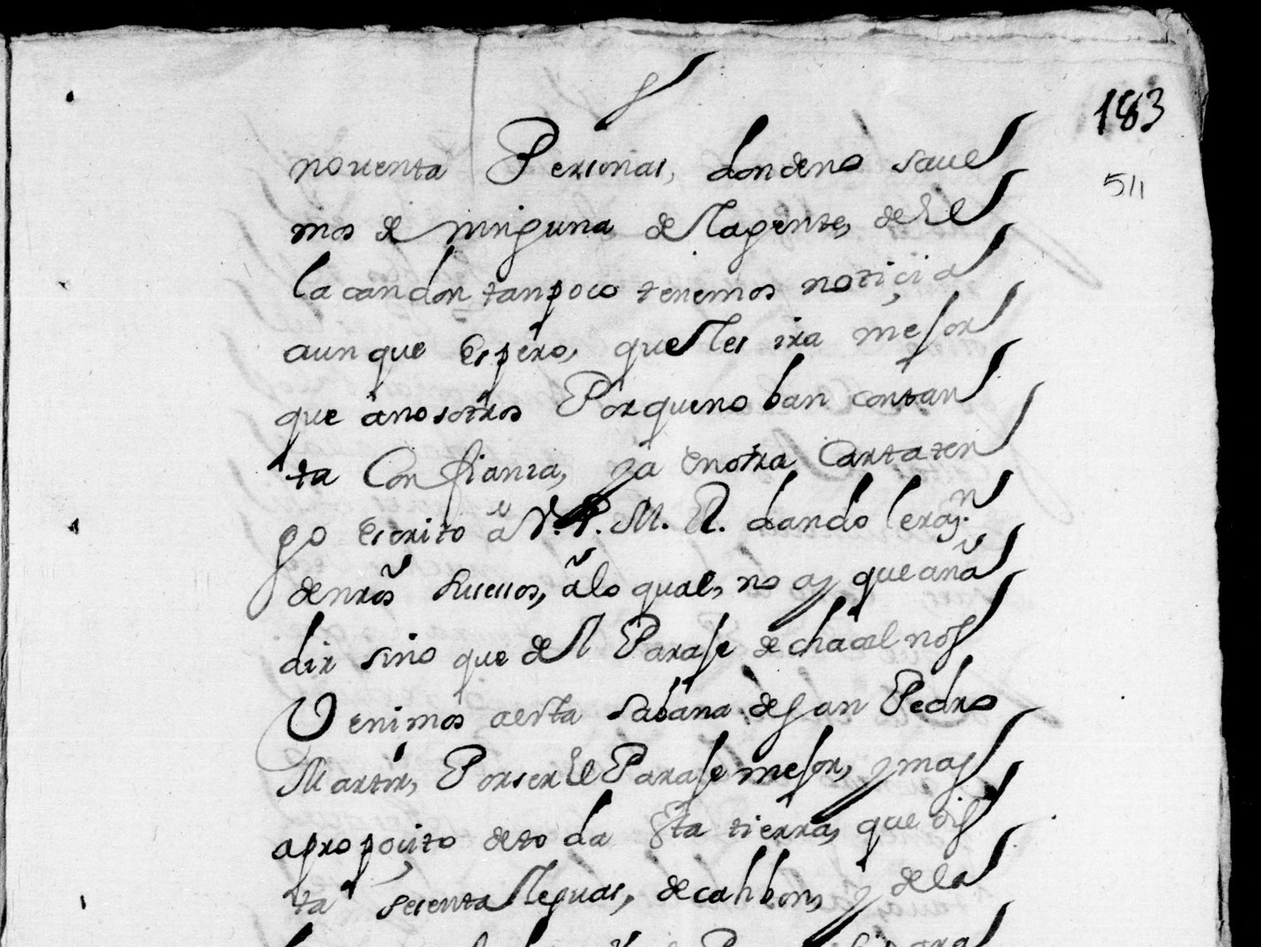lacandon: (293, 244, 472, 305)
